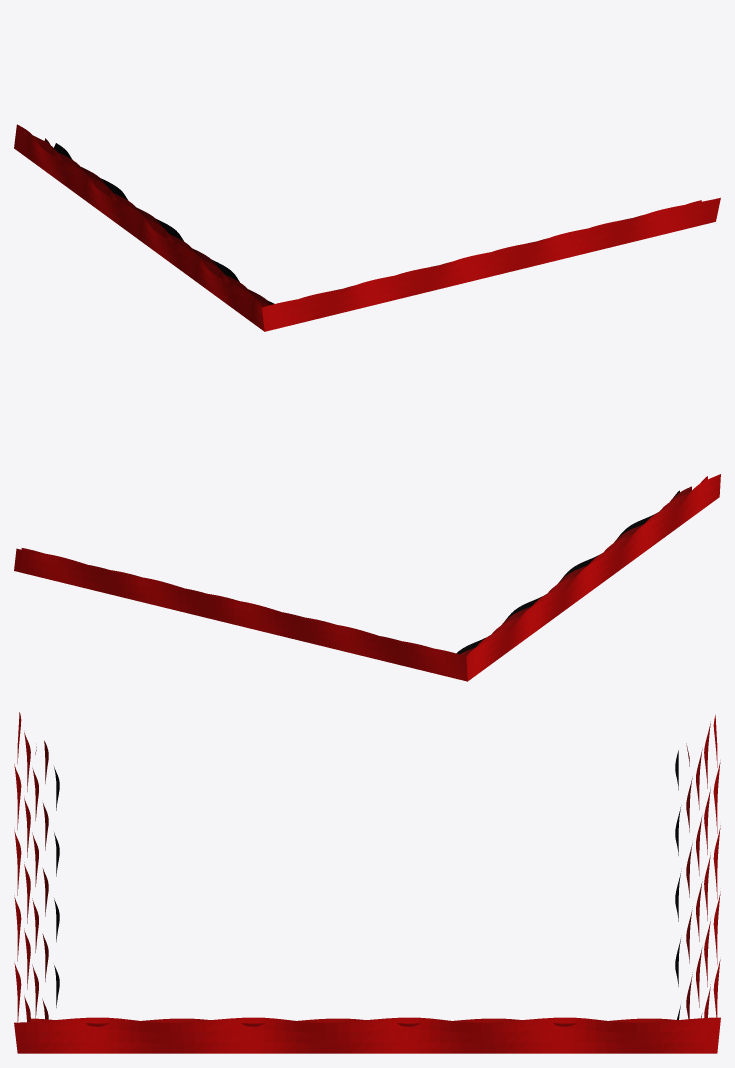
Rendered from arch_fog_layers.glb.
The picture shows the model from 3 angles, top to bottom: view 1: azimuth 30°, elevation 25°; view 2: azimuth 150°, elevation 25°; view 3: azimuth 270°, elevation 25°; orthographic projection. The views are drawn at different scales.
Parts seen in each view (by area): view 1: geometry_0; view 2: geometry_0; view 3: geometry_0.
Part boxes in pixels (box(x1,y1,x2,y2)): geometry_0: box(14, 124, 720, 331); geometry_0: box(14, 474, 720, 681); geometry_0: box(14, 712, 720, 1053).
Bounding box in the file's own units: 2684 × 135 × 2566.
